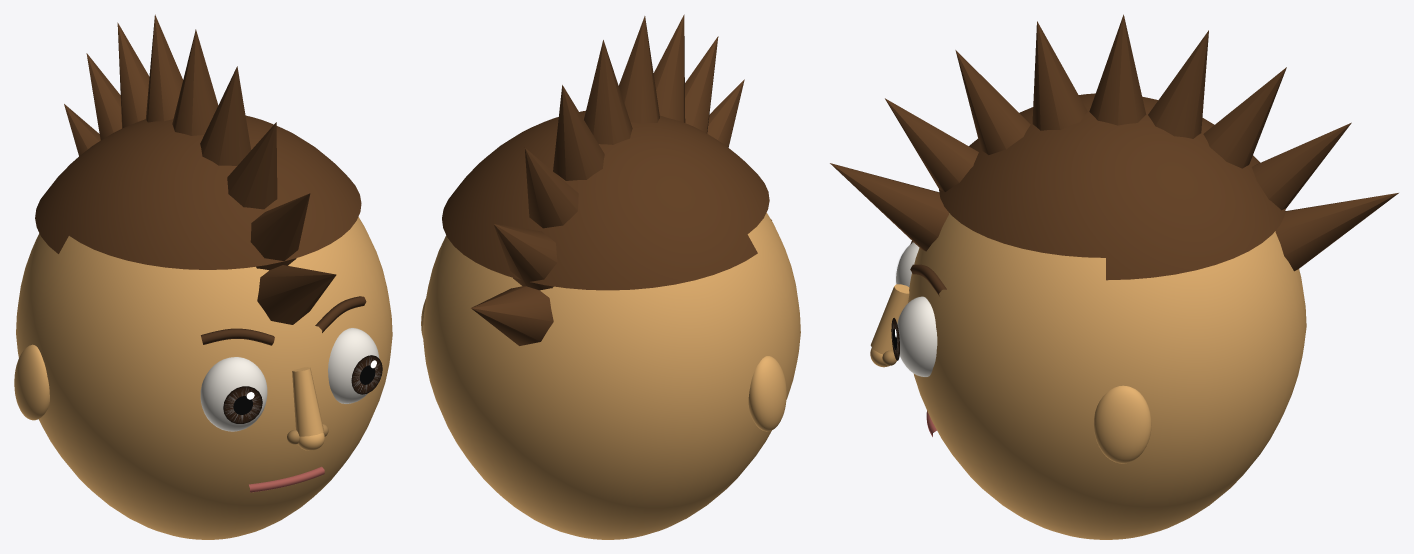
File: homme-11-crete.glb
3 renders of one model, left to right at view 1: azimuth 30°, elevation 25°; view 2: azimuth 150°, elevation 25°; view 3: azimuth 270°, elevation 25°, orthographic. The views are drawn at different scales.
Size of the model in its own units: 0.3087 by 0.4106 by 0.4137.
Materials: 10 (1 with a texture image).
